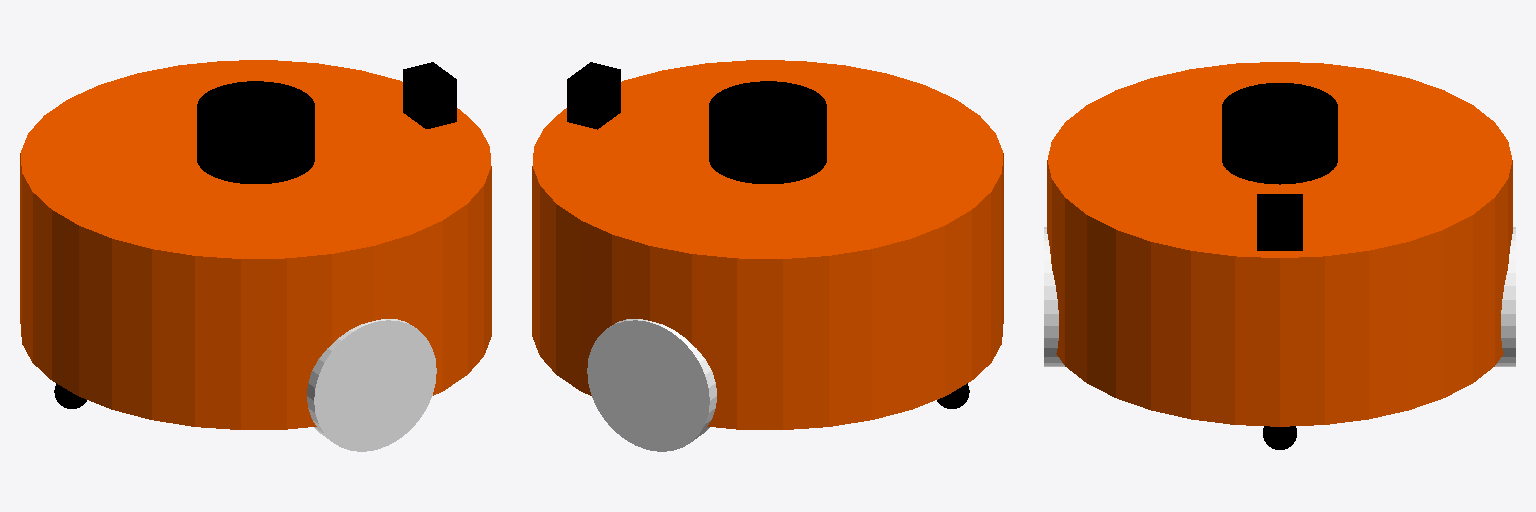
URDF robot description (mbot):
<?xml version="1.0" ?>
<robot name="mbot">

    <link name="base_link">
        <visual>
            <origin xyz=" 0 0 0" rpy="0 0 0" /><!-- 位置:rpy中第一个参数是绕x轴转的角度，第二个为y，第三个是z，注意这里的角度是弧度值）-->
            <geometry>  <!-- 几何结构 -->
                <cylinder length="0.16" radius="0.20"/> <!-- cylinder:圆柱体 length:长度/高度 radius:半径 -->
            </geometry>
            <material name="yellow">
                <color rgba="1 0.4 0 1"/><!-- 颜色属性 -->
            </material>
        </visual>
    </link>

    <joint name="left_wheel_joint" type="continuous">
        <origin xyz="0 0.19 -0.05" rpy="0 0 0"/>
        <parent link="base_link"/>
        <child link="left_wheel_link"/>
        <axis xyz="0 1 0"/><!-- 指定y轴为旋转轴 -->
    </joint>

    <link name="left_wheel_link">
        <visual>
            <origin xyz="0 0 0" rpy="1.5707 0 0" />
            <geometry>
                <cylinder radius="0.06" length = "0.025"/>
            </geometry>
            <material name="white">
                <color rgba="1 1 1 0.9"/>
            </material>
        </visual>
    </link>

    <joint name="right_wheel_joint" type="continuous">
        <origin xyz="0 -0.19 -0.05" rpy="0 0 0"/>
        <parent link="base_link"/>
        <child link="right_wheel_link"/>
        <axis xyz="0 1 0"/>
    </joint>

    <link name="right_wheel_link">
        <visual>
            <origin xyz="0 0 0" rpy="1.5707 0 0" />
            <geometry>
                <cylinder radius="0.06" length = "0.025"/>
            </geometry>
            <material name="white">
                <color rgba="1 1 1 0.9"/>
            </material>
        </visual>
    </link>

    <joint name="front_caster_joint" type="continuous">
        <origin xyz="0.18 0 -0.095" rpy="0 0 0"/>
        <parent link="base_link"/>
        <child link="front_caster_link"/>
        <axis xyz="0 1 0"/>
    </joint>

    <link name="front_caster_link">
        <visual>
            <origin xyz="0 0 0" rpy="0 0 0"/>
            <geometry>
                <sphere radius="0.015" />
            </geometry>
            <material name="black">
                <color rgba="0 0 0 0.95"/>
            </material>
        </visual>
    </link>

    <joint name="back_caster_joint" type="continuous">
        <origin xyz="-0.18 0 -0.095" rpy="0 0 0"/>
        <parent link="base_link"/>
        <child link="back_caster_link"/>
        <axis xyz="0 1 0"/>
    </joint>

    <link name="back_caster_link">
        <visual>
            <origin xyz="0 0 0" rpy="0 0 0"/>
            <geometry>
                <sphere radius="0.015" />
            </geometry>
            <material name="black">
                <color rgba="0 0 0 0.95"/>
            </material>
        </visual>
    </link>
    <link name="laser_link">
		<visual>
			<origin xyz=" 0 0 0 " rpy="0 0 0" />
			<geometry>
				<cylinder length="0.05" radius="0.05"/>
			</geometry>
			<material name="black"/>
		</visual>
    </link>

    <joint name="laser_joint" type="fixed">
        <origin xyz="0 0 0.105" rpy="0 0 0"/>
        <parent link="base_link"/>
        <child link="laser_link"/>
    </joint>
    <link name="camera_link">
        <visual>
            <origin xyz=" 0.0 0 0 " rpy="0 0 0" />
            <geometry>
                <box size="0.03 0.04 0.04" />
            </geometry>
            <material name="black">
                <color rgba="0 0 0 0.95"/>
            </material>
        </visual>
    </link>

    <joint name="camera_joint" type="fixed">
        <origin xyz="0.17 0 0.10" rpy="0 0 0"/>
        <parent link="base_link"/>
        <child link="camera_link"/>
    </joint>
    <link name="kinect_link">
        <visual>
            <origin xyz="0 0 0" rpy="0 0 -1.5708"/>
            <geometry>
                <mesh filename="package://mbot_description/meshes/kinect.dae" />
            </geometry>
        </visual>
    </link>
    <joint name="kinect_joint" type="fixed">
        <origin xyz="-0.17 0 0.1" rpy="0 0 0"/>
        <parent link="base_link"/>
        <child link="kinect_link"/>
    </joint>

</robot>

--- Facts derived from the render (not from the file) ---
Views: 3 orthographic renders of the robot side by side, from view 1: azimuth 30°, elevation 25°; view 2: azimuth 150°, elevation 25°; view 3: azimuth 270°, elevation 25°.
Robot: mbot — 8 links, 7 joints (4 continuous, 3 fixed); root link base_link; default pose: every joint at zero.
Links seen in each view (by area): view 1: base_link, right_wheel_link, laser_link, camera_link; view 2: base_link, left_wheel_link, laser_link, camera_link; view 3: base_link, laser_link, camera_link, left_wheel_link, right_wheel_link, front_caster_link.
Link boxes in pixels (<box>): base_link: <box>20,60,491,429</box>; right_wheel_link: <box>307,319,436,451</box>; laser_link: <box>197,81,314,183</box>; camera_link: <box>403,62,456,128</box>; base_link: <box>532,60,1003,429</box>; left_wheel_link: <box>587,319,716,451</box>; laser_link: <box>709,81,826,183</box>; camera_link: <box>567,62,620,129</box>; base_link: <box>1047,62,1512,426</box>; laser_link: <box>1222,83,1337,184</box>; camera_link: <box>1257,194,1302,250</box>; left_wheel_link: <box>1495,227,1515,366</box>; right_wheel_link: <box>1044,227,1064,366</box>; front_caster_link: <box>1263,426,1296,449</box>.
Bounding box of the posed robot: 0.4 × 0.405 × 0.24 m (x, y, z).
0 mesh visuals loaded from 1 distinct referenced files (none loaded); not drawn: 1 (reference not matched to a file when rendering).
